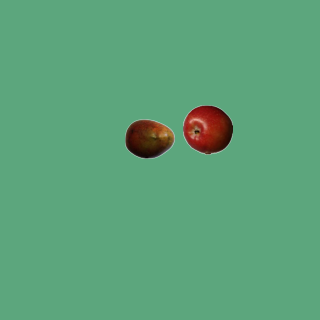Apple Braeburn: (182, 104, 232, 154)
Mango Red: (124, 113, 174, 163)
